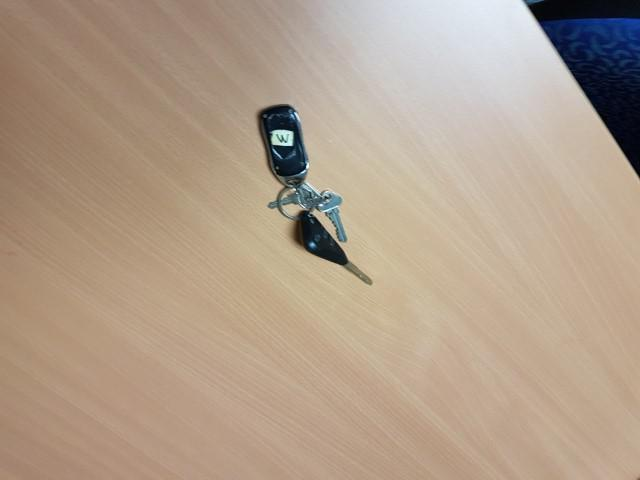key: (292, 208, 377, 290)
